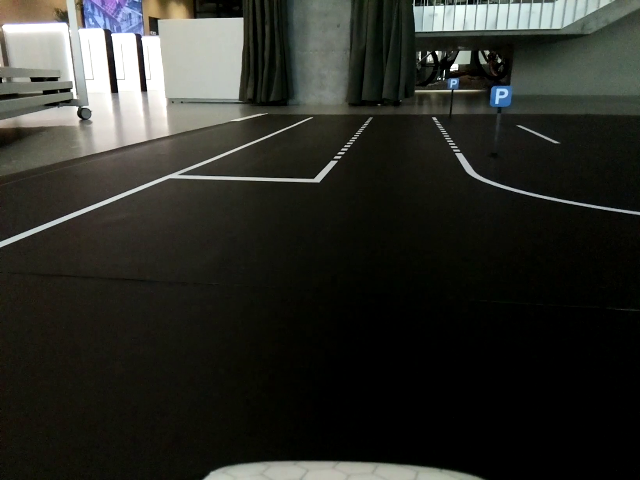park: (491, 87, 512, 108), (449, 78, 459, 90)
